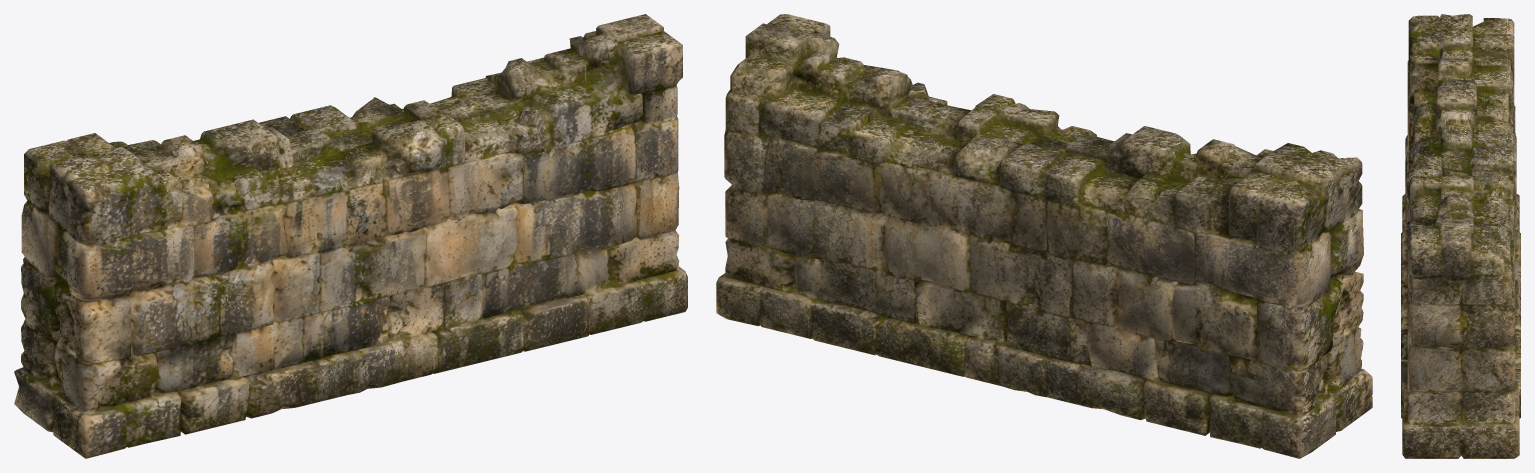
File: ARQ_MuroMaya_01_LOD0.fbx
3 renders of one model, left to right at view 1: azimuth 30°, elevation 25°; view 2: azimuth 150°, elevation 25°; view 3: azimuth 270°, elevation 25°, orthographic. The views are drawn at different scales.
Parts seen in each view (by area): view 1: ARQ_MuroMaya_01_Mesh000; view 2: ARQ_MuroMaya_01_Mesh000; view 3: ARQ_MuroMaya_01_Mesh000.
Part boxes in pixels (x1,y1,x2,y2): ARQ_MuroMaya_01_Mesh000: [14, 14, 687, 458]; ARQ_MuroMaya_01_Mesh000: [716, 14, 1372, 458]; ARQ_MuroMaya_01_Mesh000: [1401, 14, 1520, 458].
Size of the model in its own units: 4 by 1.7 by 0.8532.
